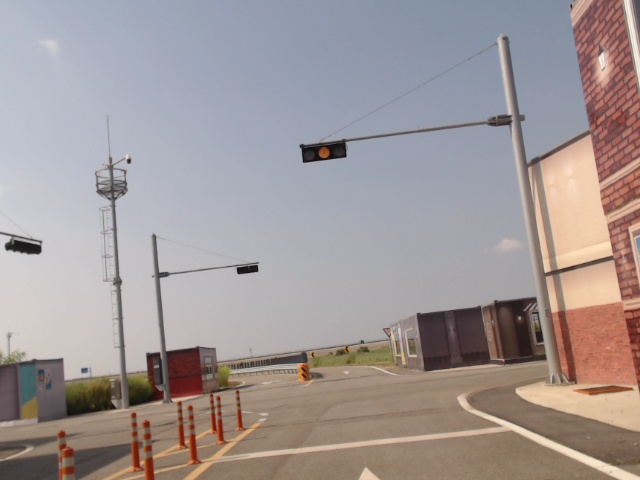orange_3: (302, 144, 347, 161)
